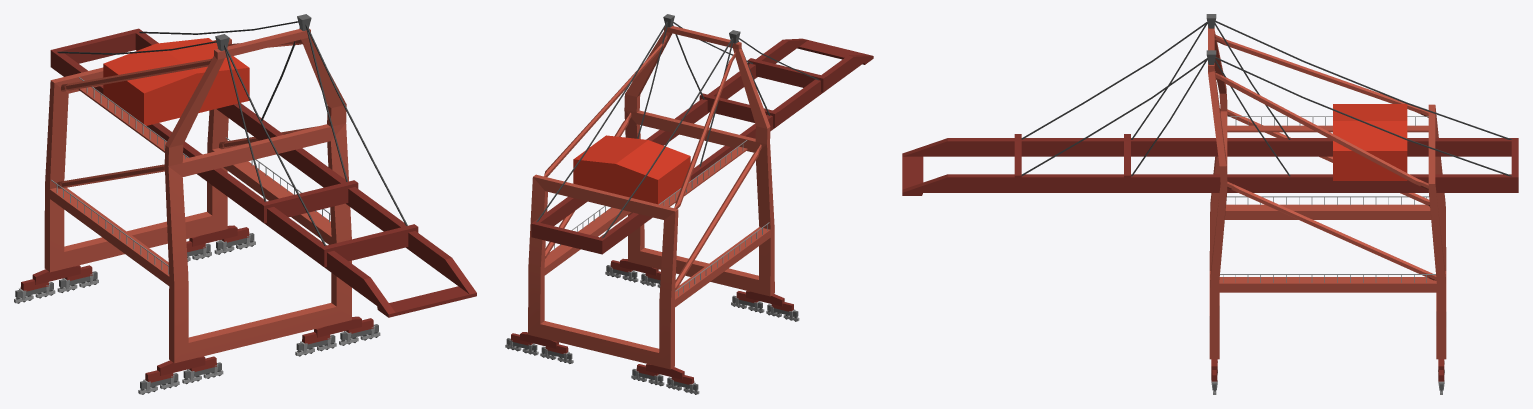
The model's file is Crane_Container_1.fbx.
The picture shows the model from 3 angles, left to right: view 1: azimuth 30°, elevation 25°; view 2: azimuth 150°, elevation 25°; view 3: azimuth 270°, elevation 25°; orthographic projection. The views are drawn at different scales.
Parts seen in each view (by area): view 1: Crane_Container_1; view 2: Crane_Container_1; view 3: Crane_Container_1.
Boxes of the visible parts, box(x1,y1,x2,y2) form: Crane_Container_1: box(14, 14, 476, 394); Crane_Container_1: box(505, 14, 873, 394); Crane_Container_1: box(902, 14, 1518, 394).
Bounding box in the file's own units: 4.85 × 6.55 × 11.82.
